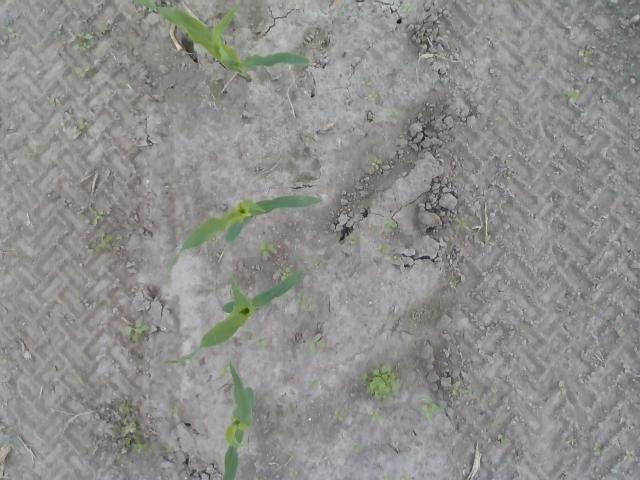Maize: (133, 0, 310, 83), (165, 271, 304, 364), (170, 194, 324, 264), (222, 360, 257, 478)
Weeds: (112, 400, 152, 454), (358, 363, 402, 400), (126, 322, 152, 344), (418, 398, 442, 420), (308, 332, 328, 353), (258, 240, 278, 260), (560, 86, 582, 104), (73, 32, 94, 48), (298, 294, 315, 312), (96, 234, 112, 250), (368, 410, 385, 424), (77, 66, 94, 78), (578, 49, 592, 63), (446, 382, 462, 394), (377, 243, 391, 256), (592, 446, 608, 456), (384, 218, 396, 230), (402, 1, 414, 13), (454, 216, 464, 229), (78, 118, 88, 131), (334, 410, 344, 422), (372, 158, 382, 170), (281, 270, 291, 282), (623, 450, 635, 460), (368, 91, 378, 102), (94, 210, 104, 220), (288, 468, 298, 478), (616, 327, 626, 336), (450, 280, 461, 288), (399, 472, 409, 480), (360, 80, 371, 86), (168, 407, 176, 414)
